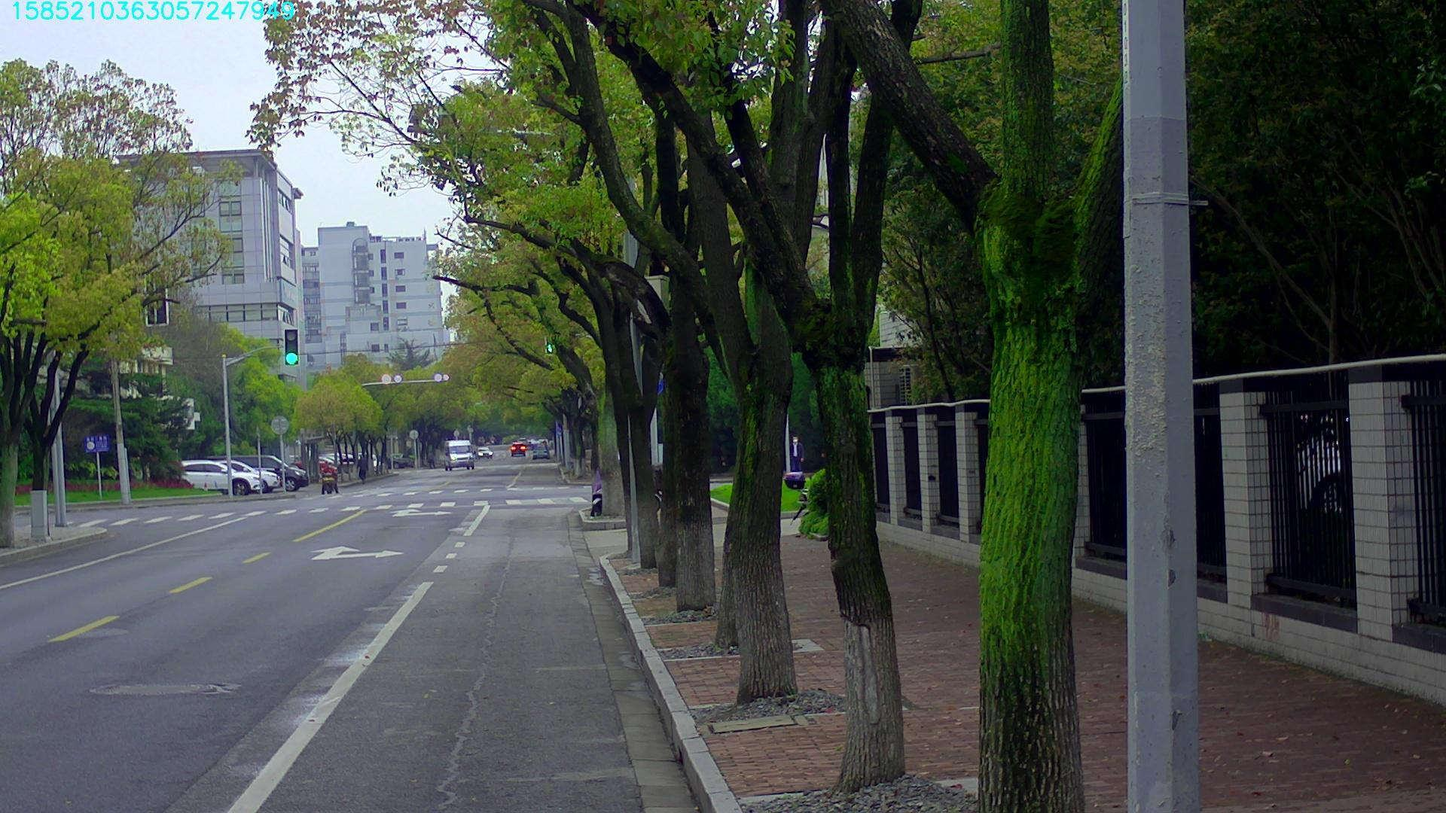green: (284, 328, 297, 364), (544, 333, 557, 351)
